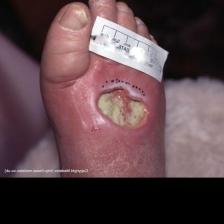Wound: (92, 84, 156, 131)
